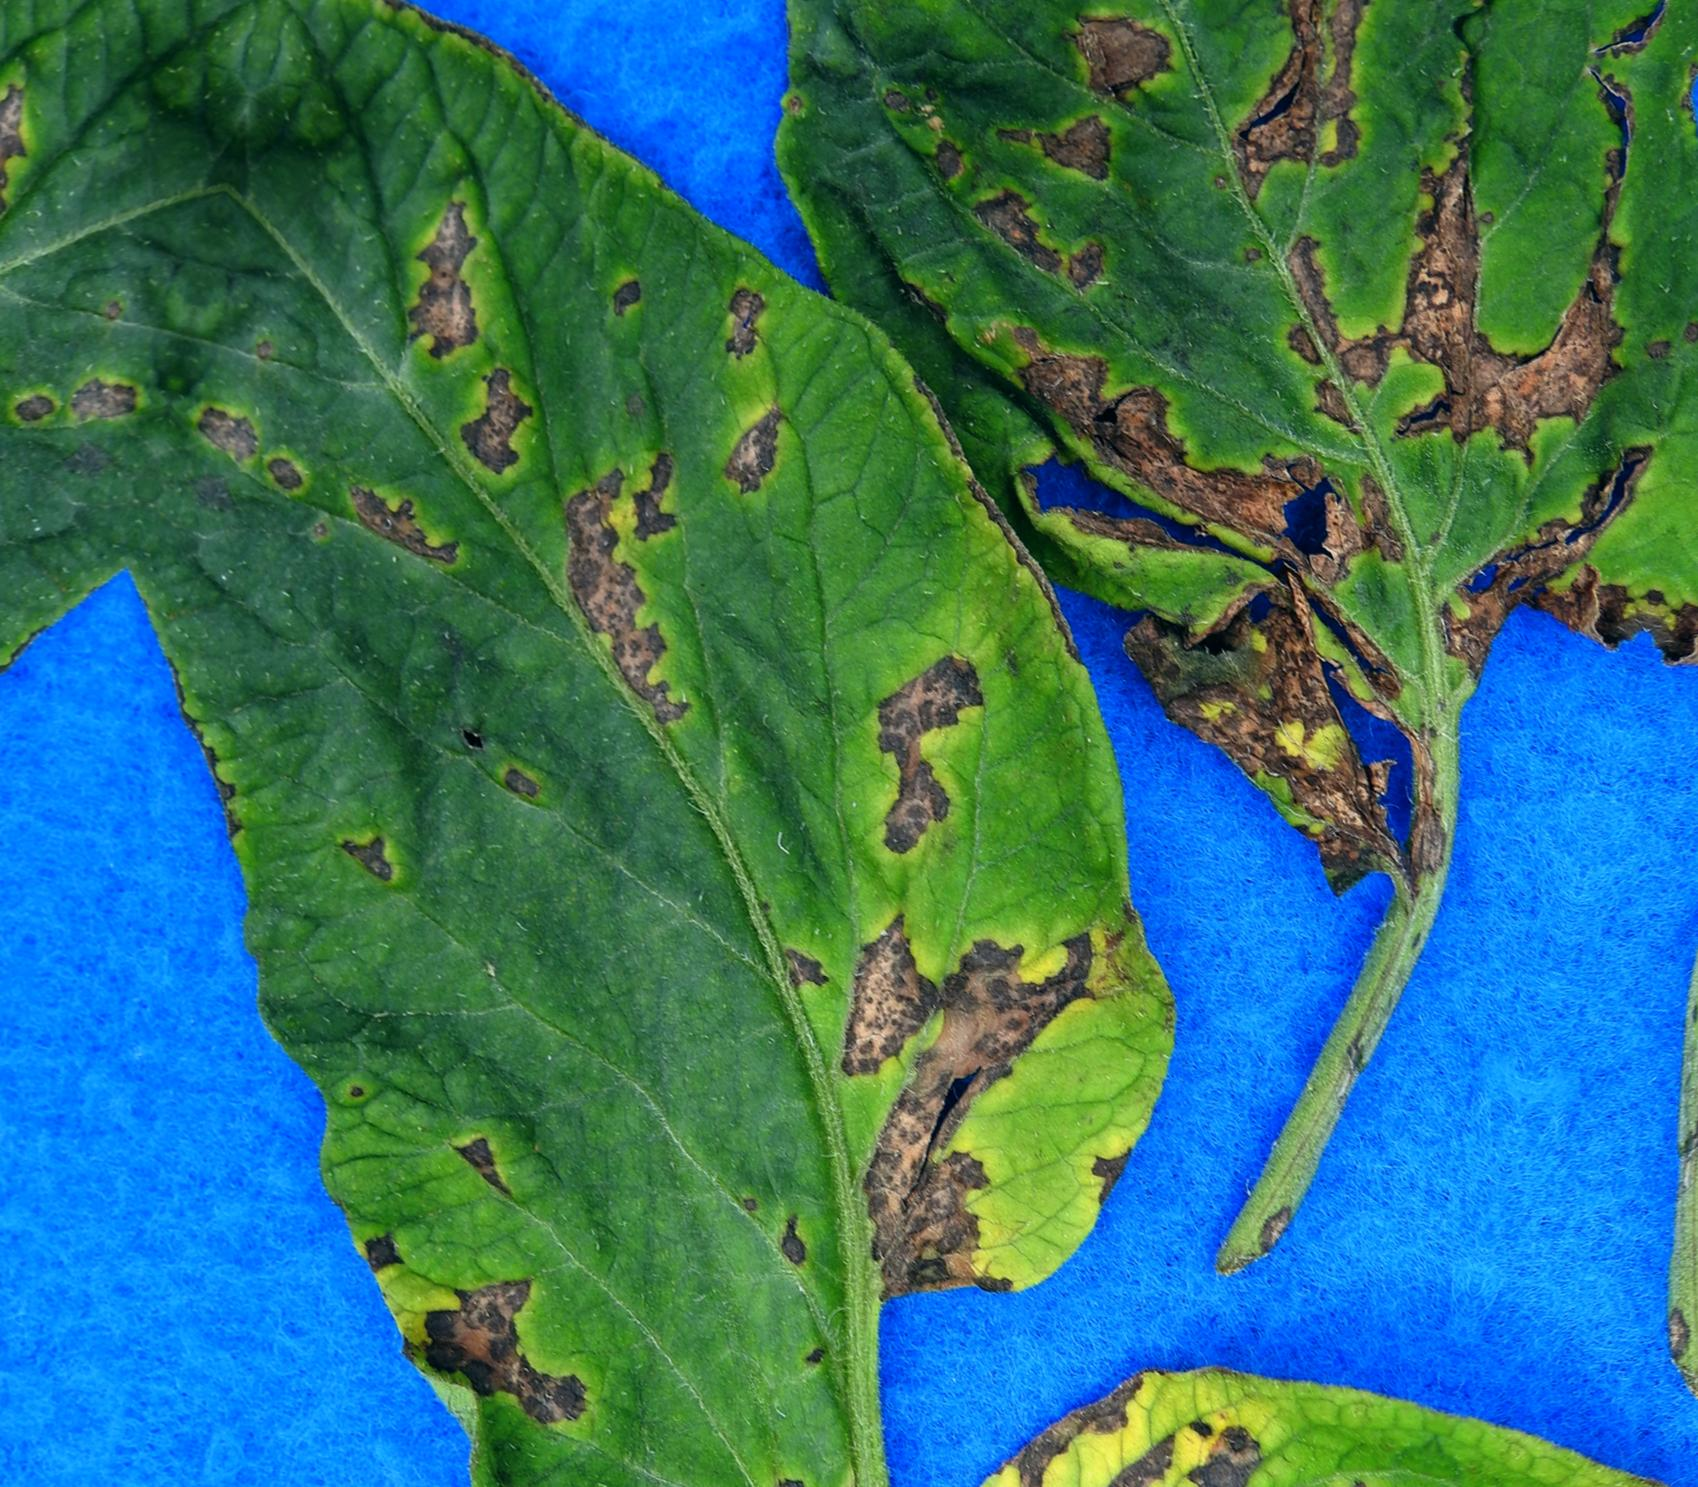Tomato leaf bacterial spot: (0, 0, 1464, 1487), (546, 0, 1698, 885), (924, 1253, 1455, 1487)
